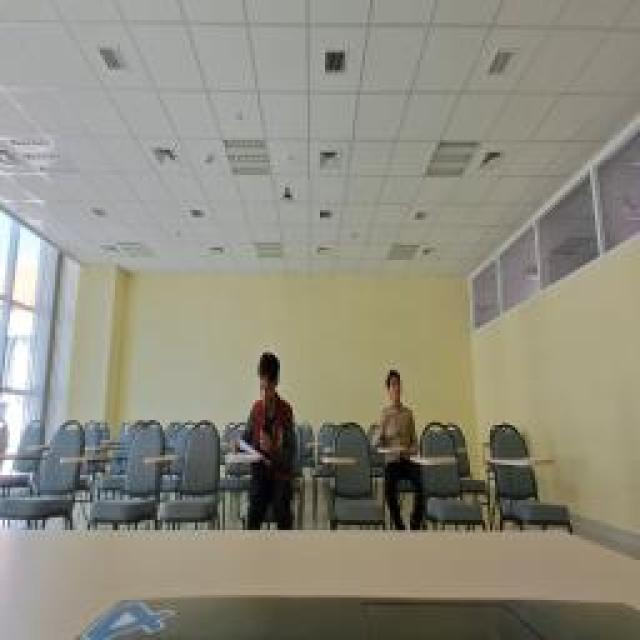study: (230, 352, 295, 458), (372, 370, 418, 455)
